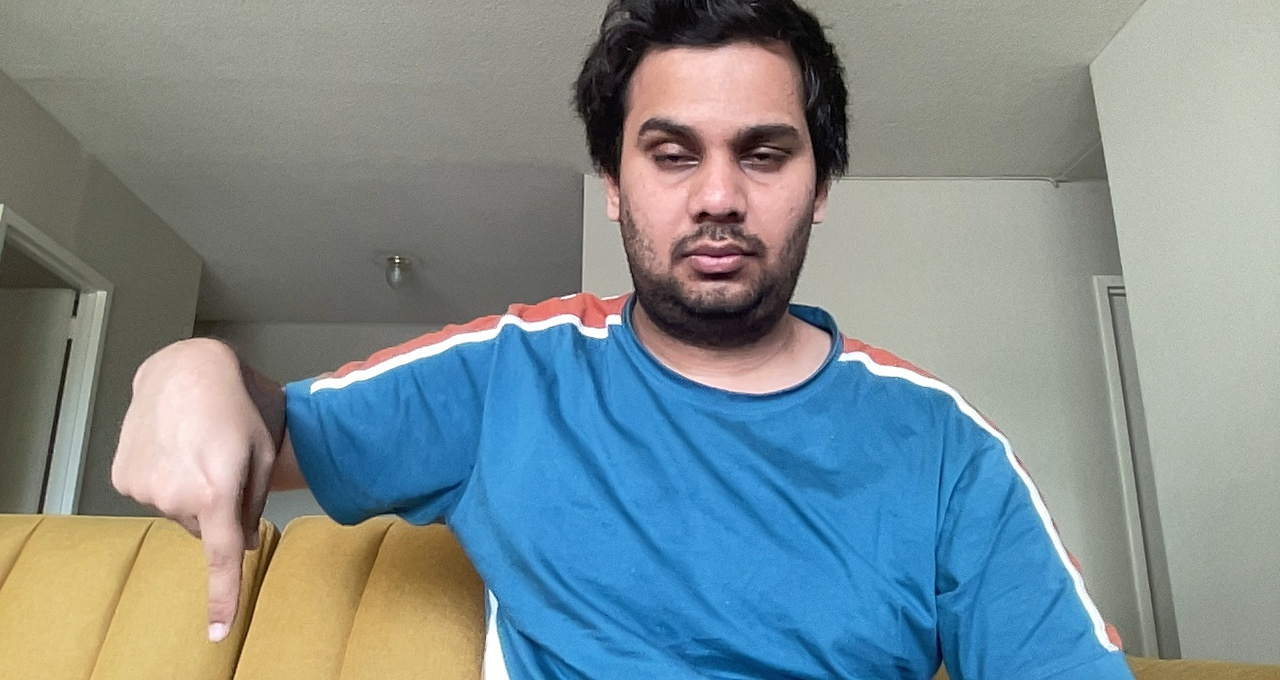fingerdown: (100, 332, 291, 654)
